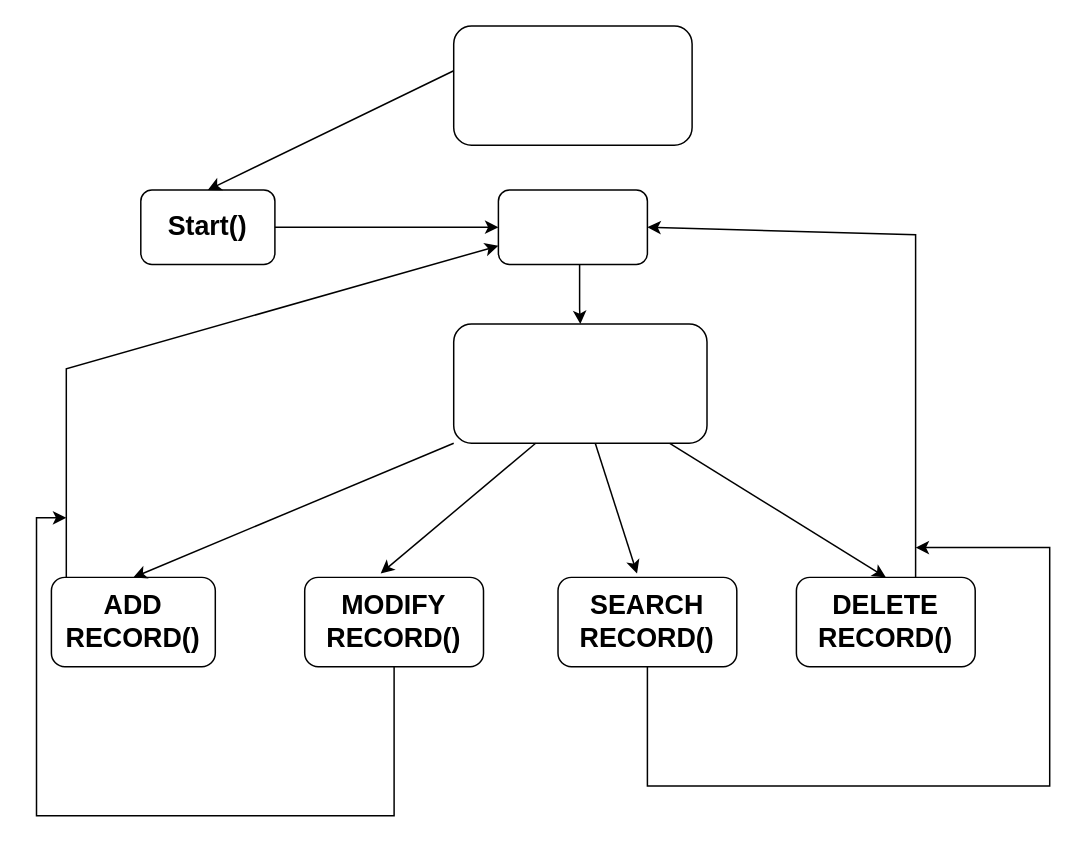
Some shapes in this 1088 by 854 pixel diagram are drawn without their labels. Each missing label, with the centre of its shape:
Menu();: the point at 572,226
PhoneBook Application: the point at 572,85
Select Function: the point at 579,383
